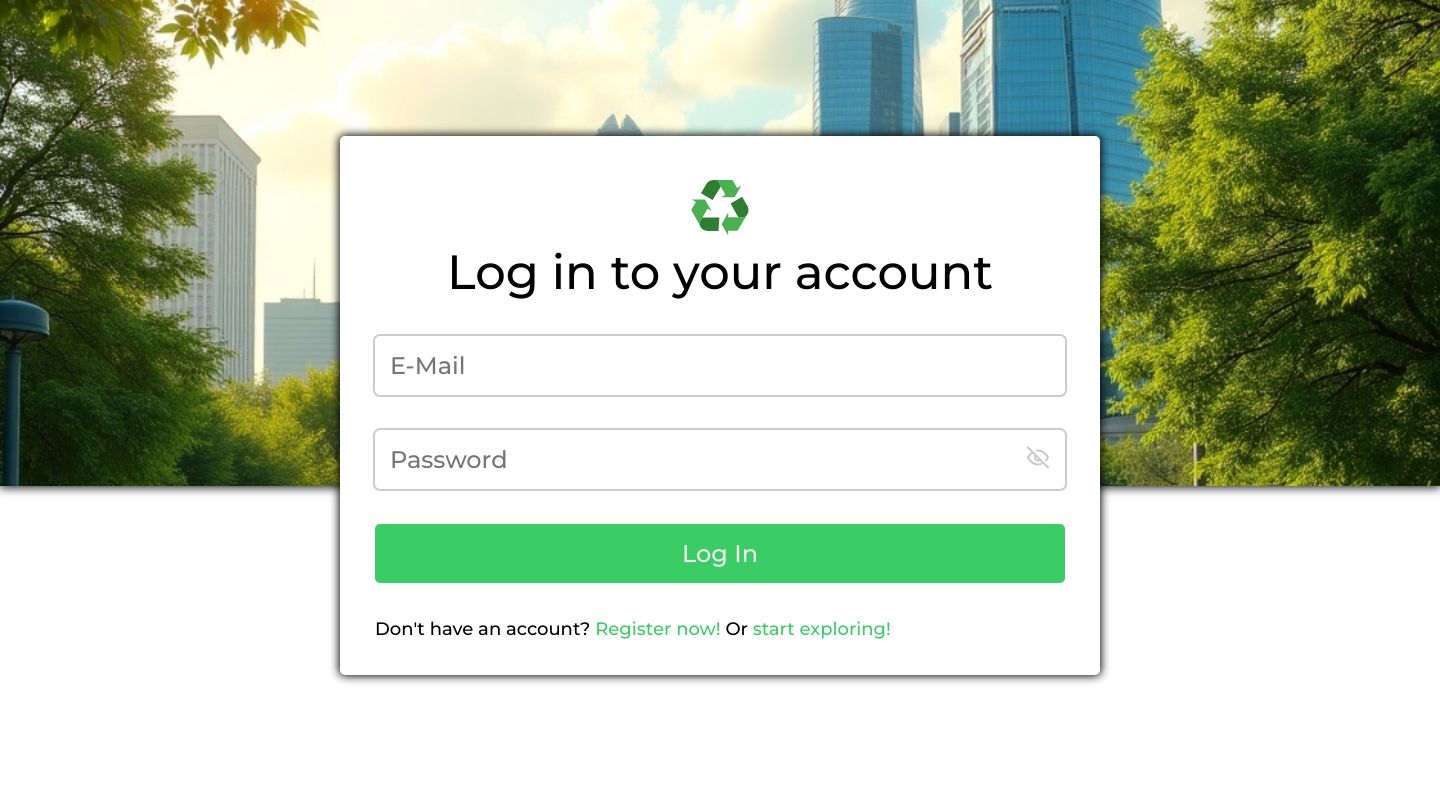
Scenario: Login Page › incorrect inputs - minimal length
In the field with placeholder "E-Mail": (720, 365) 375,336 -> 1065,394, type "ex"
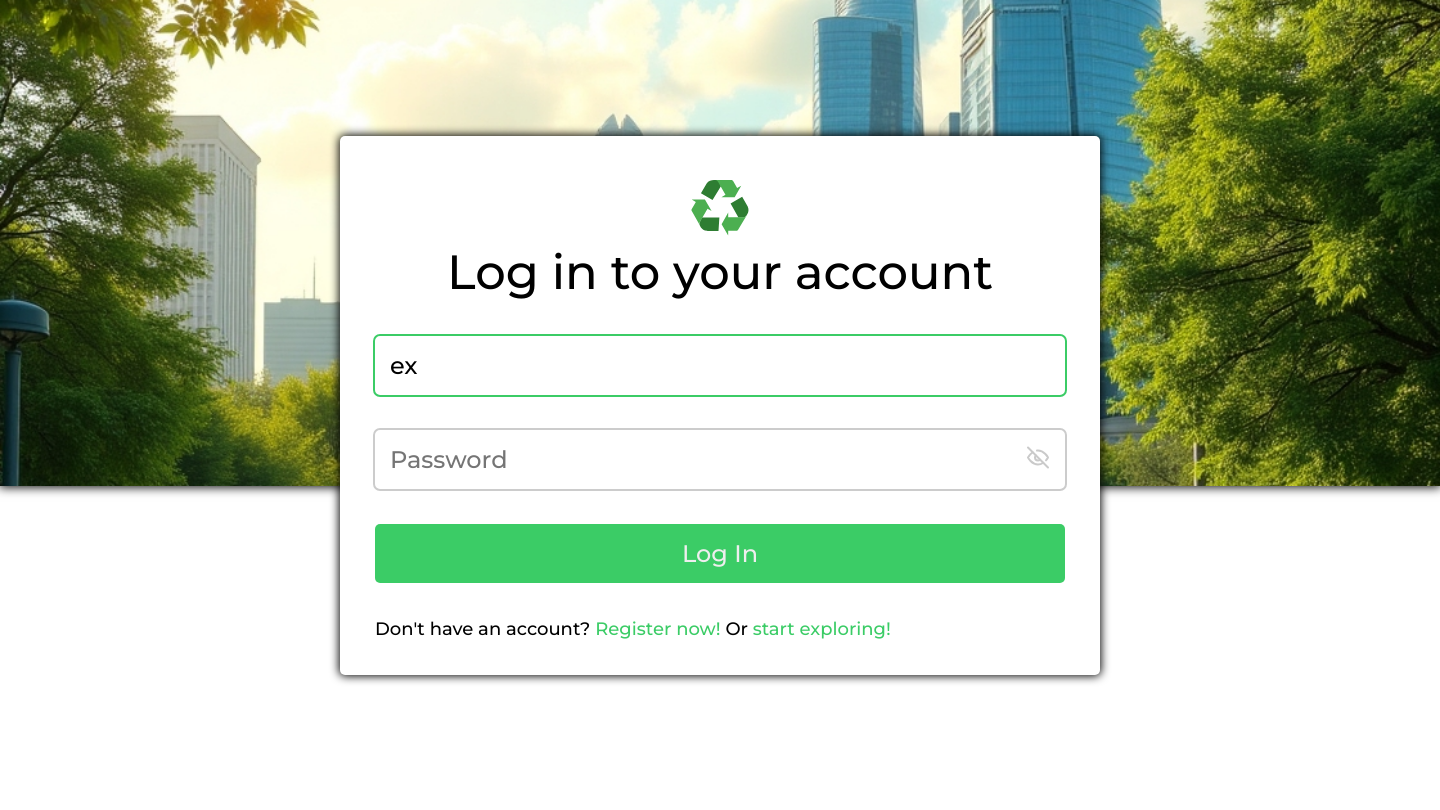
In the password field with placeholder "Password": (720, 459) 375,430 -> 1065,488, type "1"
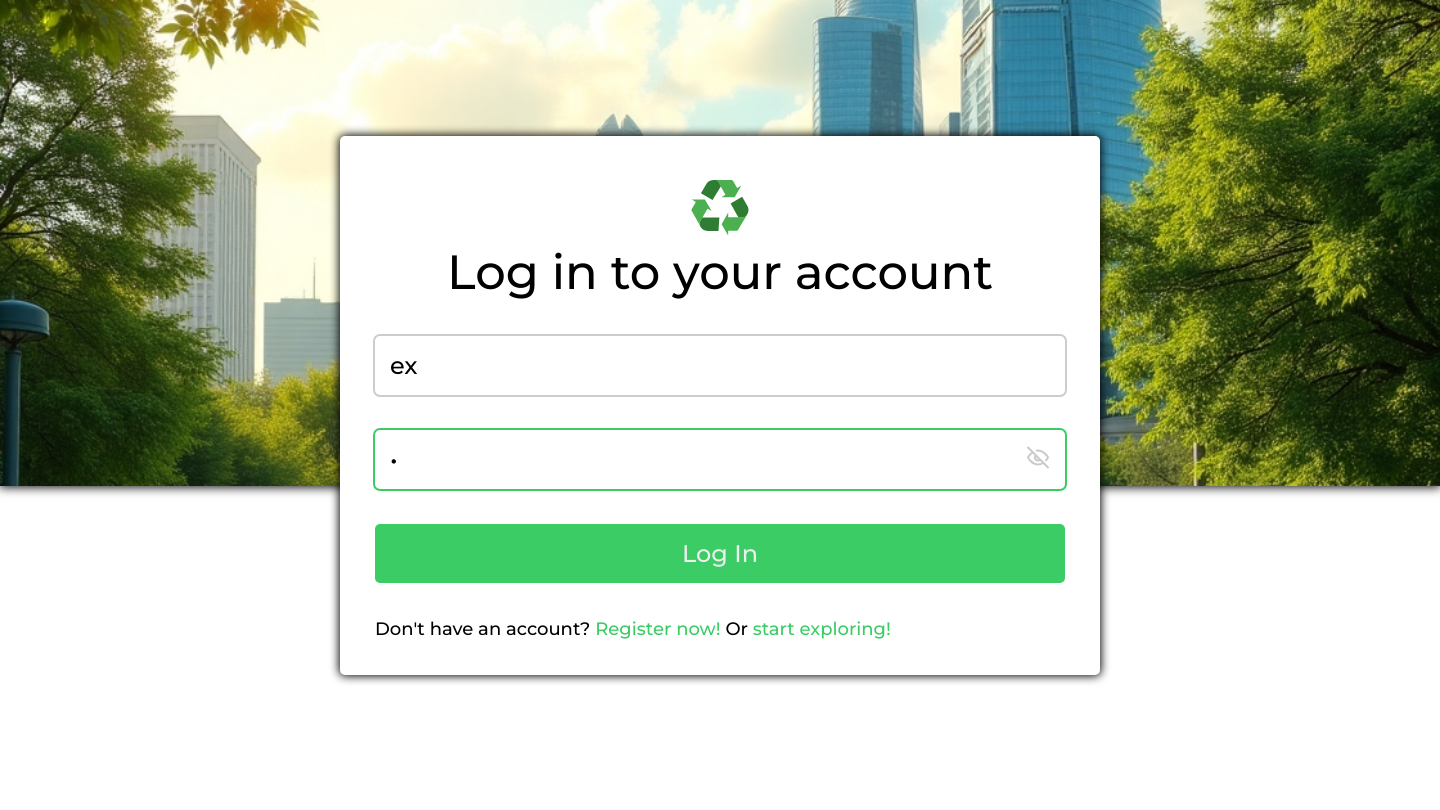
Click the button "Log In": (720, 553) 375,524 -> 1065,582
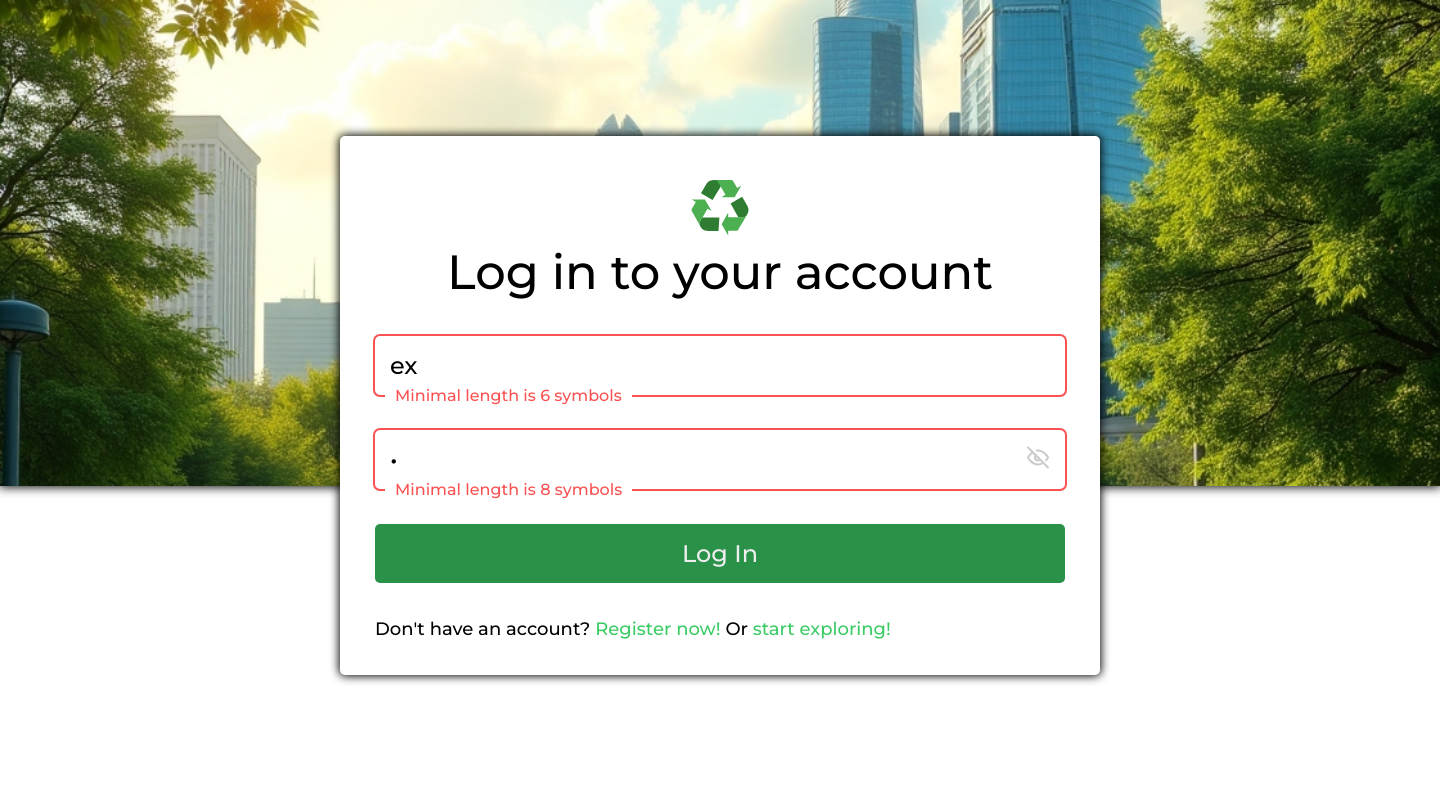
Result: the text "Minimal length is 6 symbols" is shown 2 times at 385,386 -> 632,404; 385,480 -> 632,498
